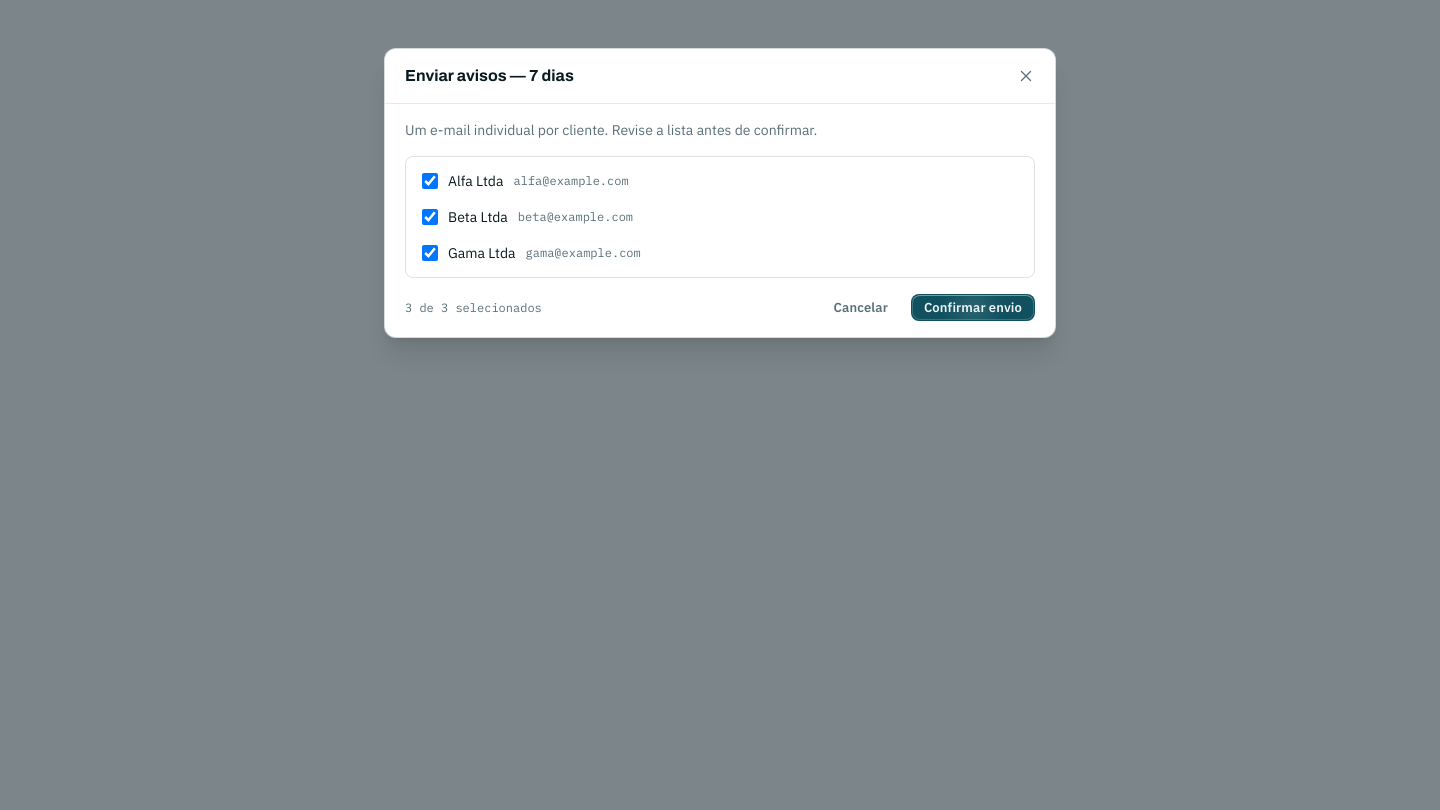
Scenario: ModalEnvioLote › desmarcar um atualiza o contador
Click the checkbox labelled "Alfa Ltda alfa@example.com".
click(430, 181)  # box [422, 173, 438, 189]
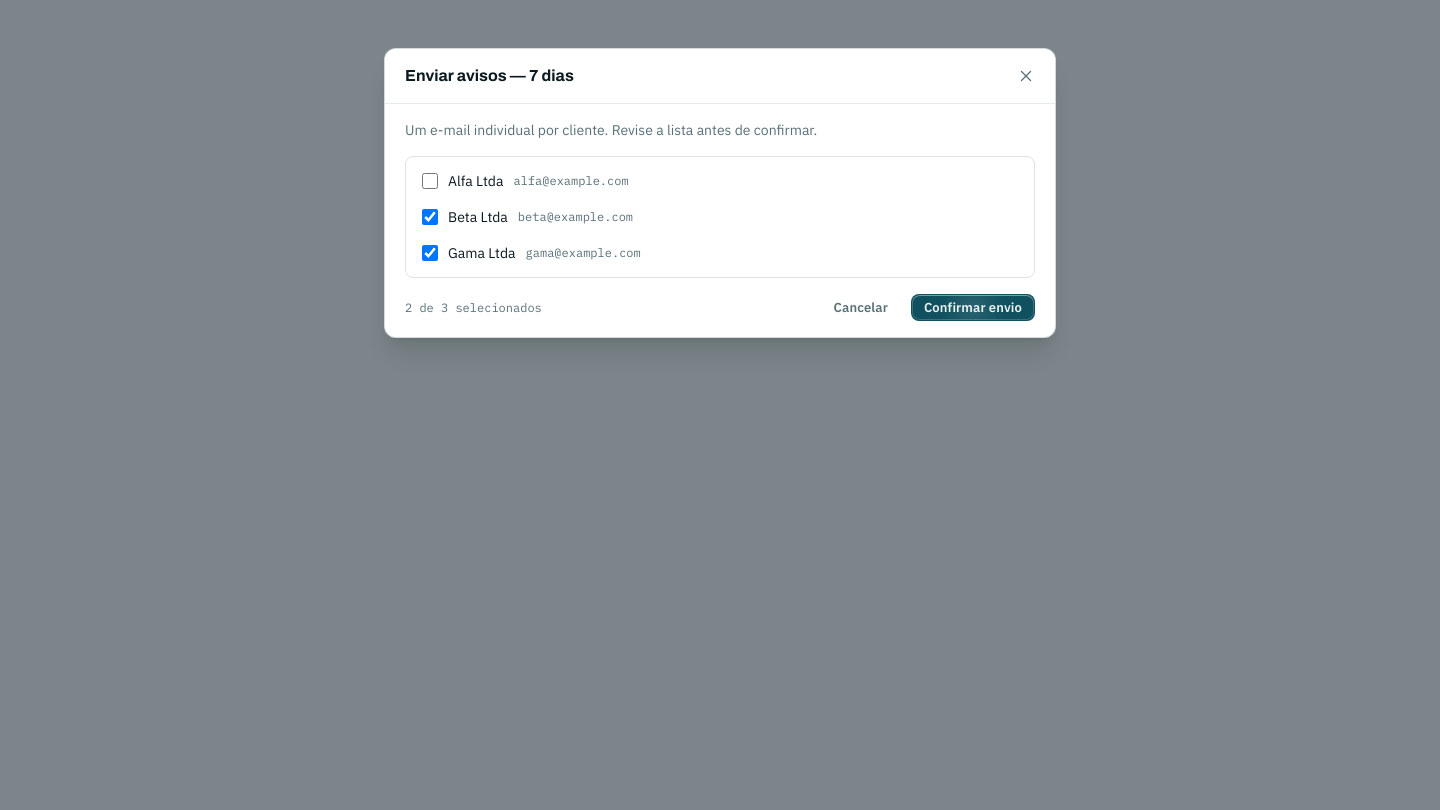
Expected: the text "2 de 3 selecionados" is shown, [405, 300, 542, 316]
